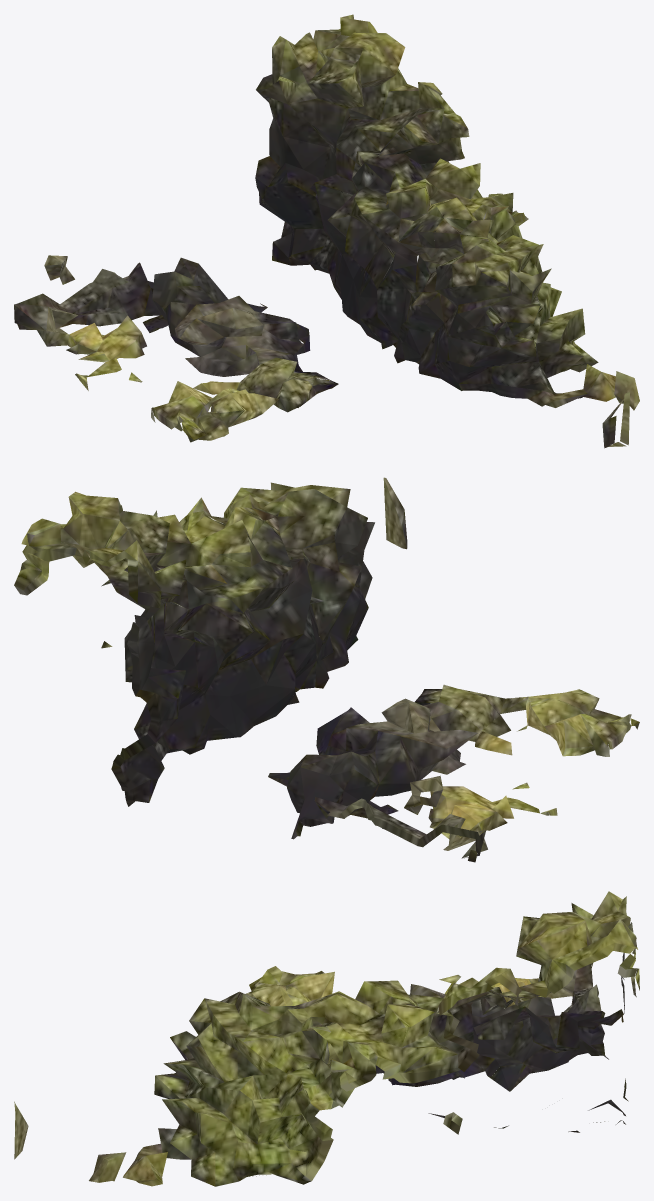
3 renders of one model, top to bottom at view 1: azimuth 30°, elevation 25°; view 2: azimuth 150°, elevation 25°; view 3: azimuth 270°, elevation 25°, orthographic. The views are drawn at different scales.
Parts seen in each view (by area): view 1: Mesh_0; view 2: Mesh_0; view 3: Mesh_0.
Part boxes in pixels (left/top/right/bottom): Mesh_0: left=14, top=14, right=639, bottom=448; Mesh_0: left=14, top=477, right=639, bottom=862; Mesh_0: left=14, top=891, right=639, bottom=1186.
Size of the model in its own units: 31.28 by 16.84 by 39.01.
Materials: 1 (1 with a texture image).
